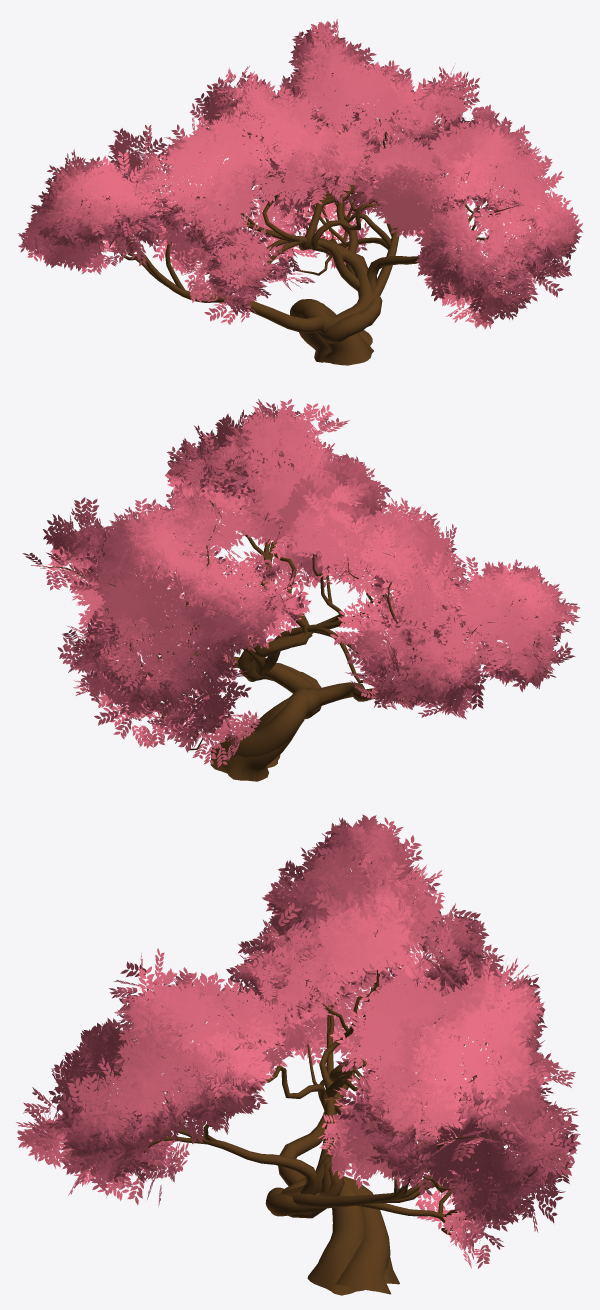
File: pink-tree.glb
3 renders of one model, top to bottom at view 1: azimuth 30°, elevation 25°; view 2: azimuth 150°, elevation 25°; view 3: azimuth 270°, elevation 25°, orthographic. The views are drawn at different scales.
Parts seen in each view (by area): view 1: Foliage, Bark; view 2: Foliage, Bark; view 3: Foliage, Bark.
Part boxes in pixels (x1,y1,x2,y2): Foliage: [18, 19, 582, 329]; Bark: [115, 90, 540, 365]; Foliage: [22, 399, 580, 767]; Bark: [43, 466, 495, 781]; Foliage: [16, 814, 581, 1268]; Bark: [96, 864, 543, 1295].
Bounding box in the file's own units: 31.88 × 19.3 × 26.12.
2 materials, 1 textured.
